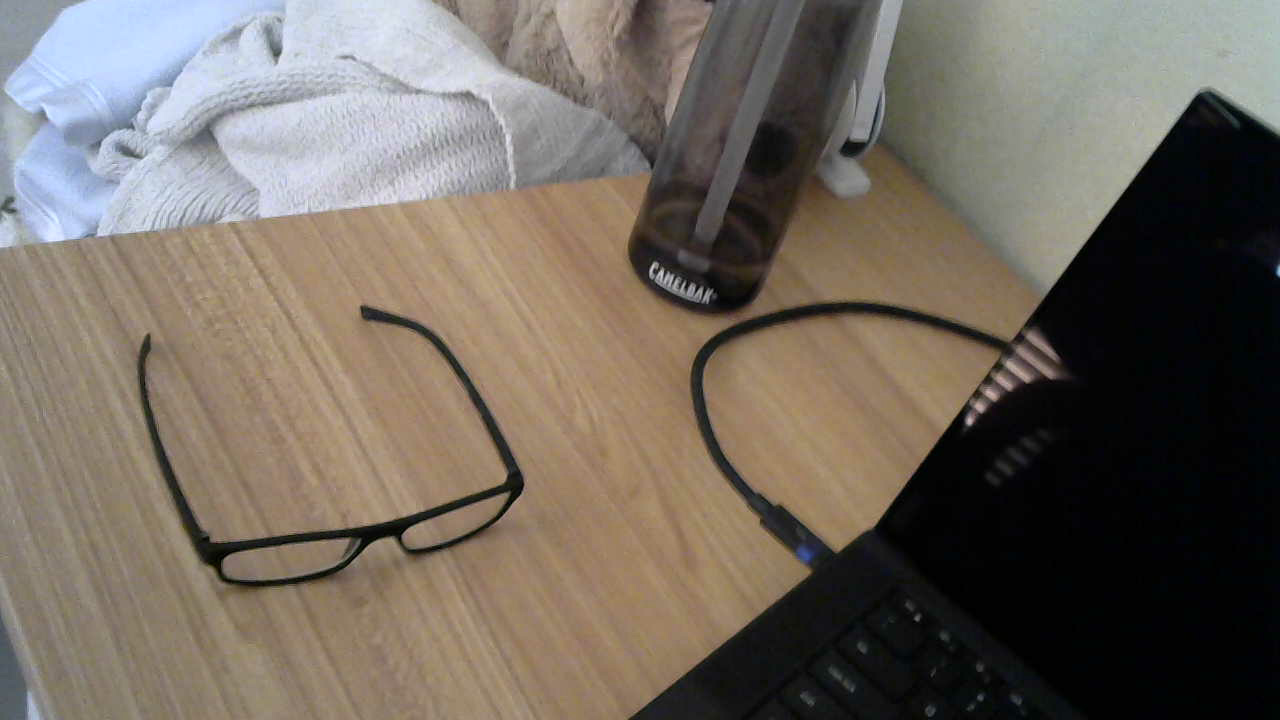Glasses: (116, 314, 541, 599)
